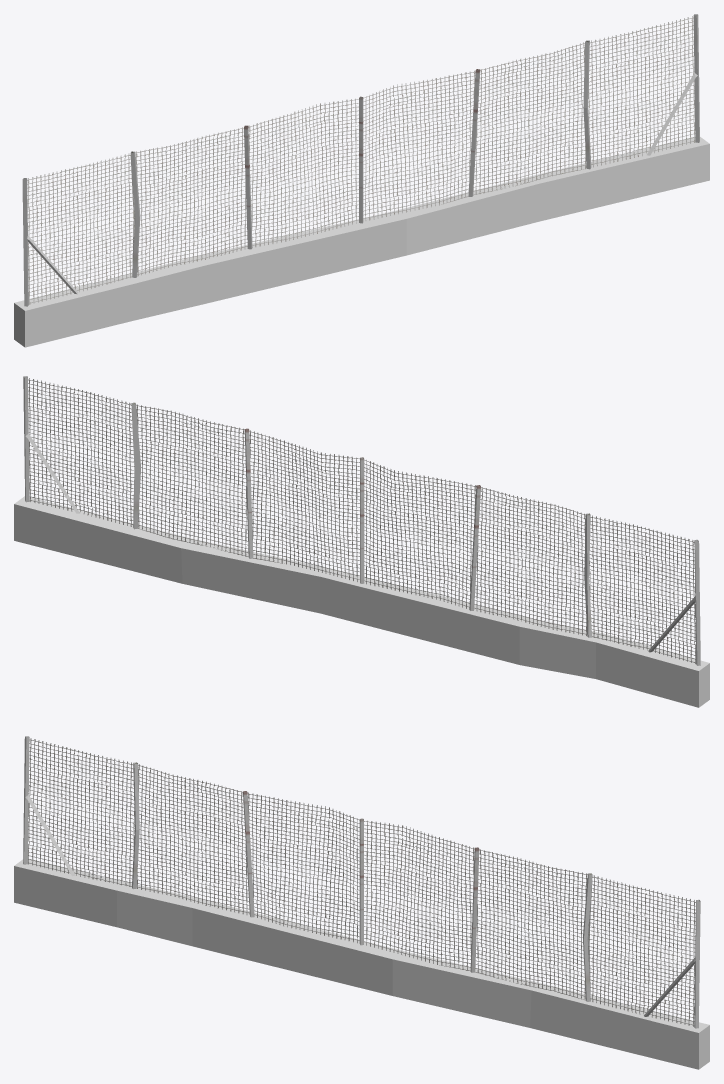
Rendered from Valla.fbx.
3 renders of one model, top to bottom at view 1: azimuth 30°, elevation 25°; view 2: azimuth 150°, elevation 25°; view 3: azimuth 330°, elevation 25°, orthographic.
Visible parts, largest first — view 1: Valla; view 2: Valla; view 3: Valla.
Boxes of the visible parts, x1,y1,x2,y2 form: Valla: (14,14,709,347); Valla: (14,376,709,707); Valla: (14,736,709,1069).
Bounding box in the file's own units: 3905 × 893 × 145.
